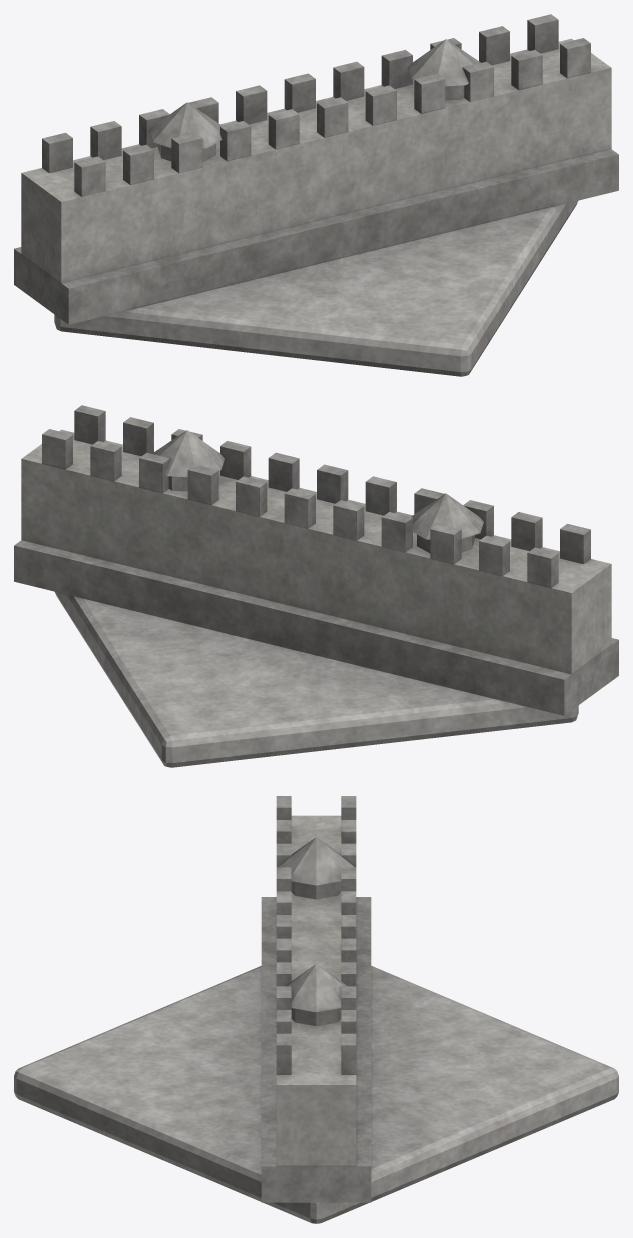
The model's file is wall_a.glb.
3 renders of one model, top to bottom at view 1: azimuth 30°, elevation 25°; view 2: azimuth 150°, elevation 25°; view 3: azimuth 270°, elevation 25°, orthographic.
Parts seen in each view (by area): view 1: dilek; view 2: dilek; view 3: dilek.
Part boxes in pixels (box(x1,y1,x2,y2)): dilek: box(14, 14, 618, 376); dilek: box(14, 405, 618, 767); dilek: box(14, 796, 618, 1223).
Size of the model in its own units: 2.55 by 0.88 by 2.42.
1 material, 1 textured.
